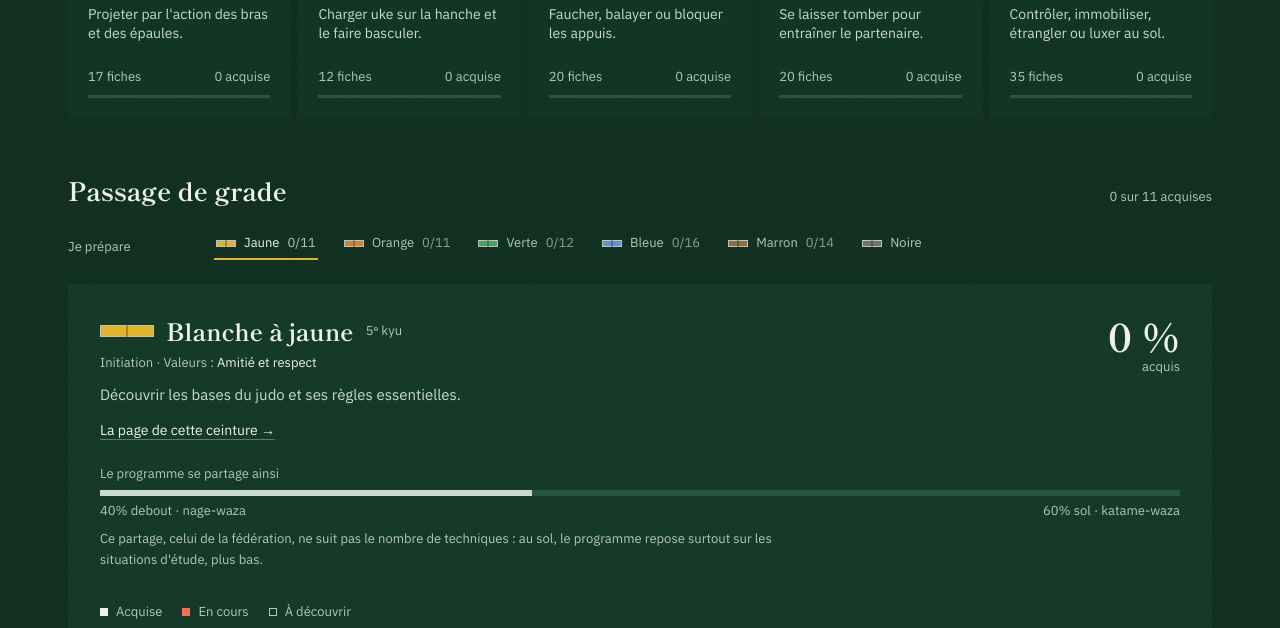
Scenario: parcours applicatif › affiche le programme du grade préparé et permet d’en changer
(page scrolled)
Expected: the heading "Blanche à jaune" is shown, 166,316 -> 354,346
Expected: the text "40% debout · nage-waza" is shown, 100,502 -> 246,520
Click the button "Verte 0/12" at point(526, 245), box 476,230 -> 576,260
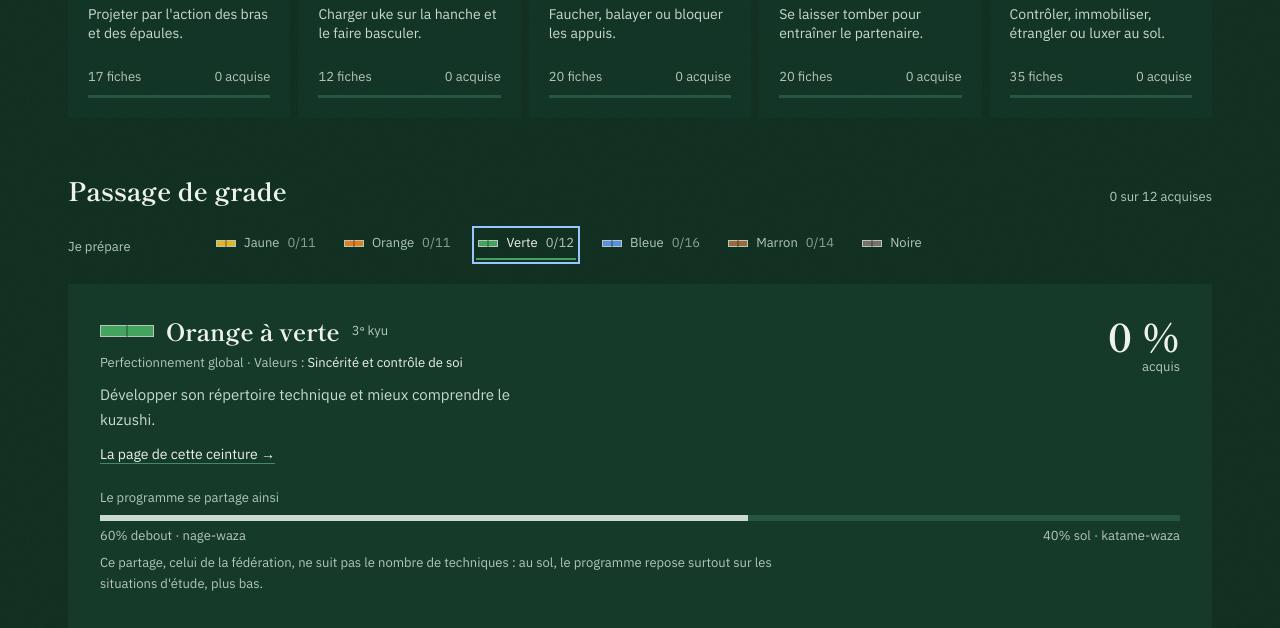
Expected: the heading "Orange à verte" is shown, 166,316 -> 340,346
